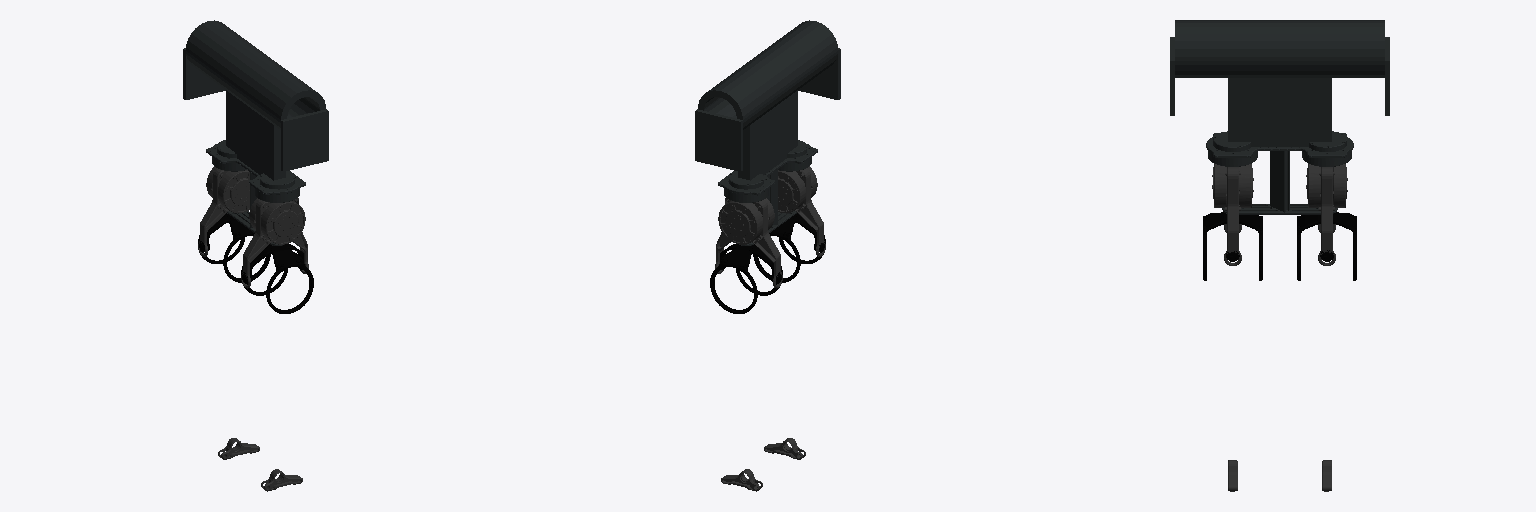
URDF robot description (TELLO):
<robot name="TELLO" xmlns:xacro="http://ros.org/wiki/xacro">
  <!-- ===== DUMMY 'BASE' LINK ==== -->
  <link name="BODY">
    <inertial>
      <mass value="9.807"/>
      <origin xyz="0.0 0.0 0.1345"/>
      <inertia ixx="0.188824827" ixy="0.000008407" ixz="-0.000015445" iyy="0.083219132" iyz="	0.000010634" izz="0.119998911"/>
    </inertial>
    <visual>
      <geometry>
        <mesh filename="meshes/BODY.dae" scale="1 1 1"/>
      </geometry>
      <origin rpy="0.0 0.0 0.0" xyz="0.0 0.0 0.0"/>
    </visual>
  </link>
  <!--!!!!!!!!!!!!!!!!!!!!!RIGHT LEG!!!!!!!!!!!!!!!!!!!!!!!!!!!!!!!!!!!!!!!!!!!!!!!!-->
  <joint name="r_hip_yaw" type="continuous">
    <axis xyz="0 0 1"/>
    <origin rpy="0 0 0" xyz="0.0 -0.090 -0.029"/>
    <parent link="BODY"/>
    <child link="R_HIP_C"/>
  </joint>
  <link name="R_HIP_C">
    <inertial>
      <mass value="1.20717"/>
      <origin xyz="-0.00043 0.0 -0.05917"/>
      <inertia ixx="0.001996651" ixy="0.000000328" ixz="0.000040451" iyy="0.002472257" iyz="0.0" izz="0.001645947"/>
    </inertial>
      <visual>
        <geometry>
          <mesh filename="meshes/HIP_C.dae" scale="1 1 1"/>
        </geometry>
        <origin rpy="0.0 0.0 0.0" xyz="0.0 0.0 0.0"/>
    </visual>
 </link>

  <joint name="r_hip_roll" type="continuous">
    <axis xyz="1 0 0"/>
    <origin rpy="0.0 0.0 0.0" xyz="0.0 0.0 -0.175"/>
    <parent link="R_HIP_C"/>
    <child link="R_HIP_GIMBAL"/>
  </joint>
  <link name="R_HIP_GIMBAL">
    <inertial>
      <mass value="0.26433"/>
      <origin xyz="-0.00152 0.0 0.01677"/>
      <inertia ixx="0.000735018" ixy="0.0" ixz="0.000001772" iyy="0.000715107" iyz="0.000000002" izz="0.000728669"/>
    </inertial>
      <visual>
        <geometry>
          <mesh filename="meshes/HIP_GIMBAL.dae" scale="1 1 1"/>
        </geometry>
        <origin rpy="0.0 0.0 0.0" xyz="0.0 0.0 0.0"/>
    </visual>
 </link>


  <joint name="r_hip_pitch" type="continuous">
    <axis xyz="0 1 0"/>
    <origin rpy="0.0 0 0.0" xyz="0.0 0.0 -0.022"/>
    <parent link="R_HIP_GIMBAL"/>
    <child link="R_THIGH"/>
  </joint>

  <link name="R_THIGH">
    <inertial>
      <mass value="2.111"/>
      <origin xyz="-0.00525 0.00011 -0.03179"/>
      <inertia ixx="0.012171016" ixy="-0.000013456" ixz="-0.000145044" iyy="0.011789322" iyz="0.000027517" izz="0.003575467"/>
    </inertial>
     <visual>
       <geometry>
         <mesh filename="meshes/THIGH.dae" scale="1 1 1"/>
       </geometry>
       <origin rpy="0.0 0.0 0.0" xyz="0.0 0.0 0.0"/>
    </visual>
  </link>

  <joint name="r_knee" type="continuous">
    <axis xyz="0 1 0"/>
    <!-- <origin rpy="0 0 0" xyz="0.0 0.0 -0.47"/> -->
    <origin rpy="0 0 0" xyz="0.0 0.0 -0.2276"/>
    <parent link="R_THIGH"/>
    <child link="R_SHANK" />
  </joint>

  <link name="R_SHANK">
    <inertial>
      <mass value="0.37773"/>
      <origin xyz="0.00396 -0.00016 -0.098.34"/>
      <inertia ixx="0.001797413" ixy="0.000002934" ixz="0.000019506" iyy="0.001815537" iyz="0.000003553" izz="0.000143890"/>
    </inertial>
      <visual>
        <geometry>
          <mesh filename="meshes/SHANK.dae" scale="1 1 1"/>
        </geometry>
        <origin rpy="0.0 0.0 0.0" xyz="0.0 0.0 0.0"/>
    </visual>
  </link>

  <joint name="r_ankle" type="continuous">
    <axis xyz="0 1 0"/>
    <!-- <origin rpy="0 0 0" xyz="0.0 0.0 -0.47"/> -->
    <origin rpy="0 0 0" xyz="0.0 0.0 -0.2276"/>
    <parent link="R_SHANK"/>
    <child link="R_FOOT" />
  </joint>

  <link name="R_FOOT">
    <inertial>
      <mass value="0.05552"/>
      <origin xyz="0.01067 0.0 -0.01226"/>
      <inertia ixx="0.000006734" ixy="0.0" ixz="0.000002630" iyy="0.000036387" iyz="0.0" izz="0.000032703"/>
    </inertial>
      <visual>
        <geometry>
          <mesh filename="meshes/FOOT.dae" scale="1 1 1"/>
        </geometry>
        <origin rpy="0.0 0.0 0.0" xyz="0.0 0.0 0.0"/>
    </visual>
  </link>


  <!--!!!!!!!!!!!!!!!!!!!!!LEFT LEG!!!!!!!!!!!!!!!!!!!!!!!!!!!!!!!!!!!!!!!!!!!!!!!!-->
  <joint name="l_hip_yaw" type="continuous">
    <axis xyz="0 0 1"/>
    <origin rpy="0 0 0" xyz="0.0 0.090 -0.029"/>
    <parent link="BODY"/>
    <child link="L_HIP_C"/>
  </joint>
  <link name="L_HIP_C">
    <inertial>
      <mass value="1.19633"/>
      <origin xyz="-0.00044 0.0 -0.05368"/>
      <inertia ixx="0.001961019" ixy="0.000000328" ixz="0.000040006" iyy="0.002434744" iyz="0.0" izz="0.001642970"/>
    </inertial>
      <visual>
        <geometry>
          <mesh filename="meshes/HIP_C.dae" scale="1 1 1"/>
        </geometry>
        <origin rpy="0.0 0.0 0.0" xyz="0.0 0.0 0.0"/>
    </visual>
 </link>

  <joint name="l_hip_roll" type="continuous">
    <axis xyz="1 0 0"/>
    <origin rpy="0.0 0.0 0.0" xyz="0.0 0.0 -0.175"/>
    <parent link="L_HIP_C"/>
    <child link="L_HIP_GIMBAL"/>
  </joint>
  <link name="L_HIP_GIMBAL">
    <inertial>
      <mass value="0.26433"/>
      <origin xyz="-0.00152 0.0 0.01677"/>
      <inertia ixx="0.000735018" ixy="0.0" ixz="0.000001772" iyy="0.000715107" iyz="0.000000002" izz="0.000728669"/>
    </inertial>
      <visual>
        <geometry>
          <mesh filename="meshes/HIP_GIMBAL.dae" scale="1 1 1"/>
        </geometry>
        <origin rpy="0.0 0.0 0.0" xyz="0.0 0.0 0.0"/>
    </visual>
 </link>

  <joint name="l_hip_pitch" type="continuous">
    <axis xyz="0 1 0"/>
    <origin rpy="0.0 0 0.0" xyz="0.0 0.0 -0.022"/>
    <parent link="L_HIP_GIMBAL"/>
    <child link="L_THIGH"/>
  </joint>

  <link name="L_THIGH">
    <inertial>
      <mass value="2.111"/>
      <origin xyz="-0.00525 0.00011 -0.03179"/>
      <inertia ixx="0.012171016" ixy="-0.000013456" ixz="-0.000145044" iyy="0.011789322" iyz="0.000027517" izz="0.003575467"/>
    </inertial>
     <visual>
       <geometry>
         <mesh filename="meshes/THIGH.dae" scale="1 1 1"/>
       </geometry>
       <origin rpy="0.0 0.0 0.0" xyz="0.0 0.0 0.0"/>
    </visual>
  </link>

  <joint name="l_knee" type="continuous">
    <axis xyz="0 1 0"/>
    <!-- <origin rpy="0 0 0" xyz="0.0 0.0 -0.47"/> -->
    <origin rpy="0 0 0" xyz="0.0 0.0 -0.2276"/>
    <parent link="L_THIGH"/>
    <child link="L_SHANK" />
  </joint>

  <link name="L_SHANK">
    <inertial>
      <mass value="0.37773"/>
      <origin xyz="0.00396 -0.00016 -0.098.34"/>
      <inertia ixx="0.001797413" ixy="0.000002934" ixz="0.000019506" iyy="0.001815537" iyz="0.000003553" izz="0.000143890"/>
    </inertial>
      <visual>
        <geometry>
          <mesh filename="meshes/SHANK.dae" scale="1 1 1"/>
        </geometry>
        <origin rpy="0.0 0.0 0.0" xyz="0.0 0.0 0.0"/>
    </visual>
  </link>

  <joint name="l_ankle" type="continuous">
    <axis xyz="0 1 0"/>
    <!-- <origin rpy="0 0 0" xyz="0.0 0.0 -0.47"/> -->
    <origin rpy="0 0 0" xyz="0.0 0.0 -0.2276"/>
    <parent link="L_SHANK"/>
    <child link="L_FOOT" />
  </joint>

  <link name="L_FOOT">
    <inertial>
      <mass value="0.05552"/>
      <origin xyz="0.01067 0.0 -0.01226"/>
      <inertia ixx="0.000006734" ixy="0.0" ixz="0.000002630" iyy="0.000036387" iyz="0.0" izz="0.000032703"/>
    </inertial>
      <visual>
        <geometry>
          <mesh filename="meshes/FOOT.dae" scale="1 1 1"/>
        </geometry>
        <origin rpy="0.0 0.0 0.0" xyz="0.0 0.0 0.0"/>
    </visual>
  </link>
</robot>

--- Render facts (derived) ---
The picture shows the robot from 3 angles, left to right: view 1: azimuth 30°, elevation 25°; view 2: azimuth 150°, elevation 25°; view 3: azimuth 270°, elevation 25°; orthographic projection.
Robot: TELLO — 11 links, 10 joints (10 continuous); root link BODY; default pose: all joints at 0.
Visible links, largest first — view 1: BODY, R_HIP_C, L_HIP_C, R_HIP_GIMBAL, L_HIP_GIMBAL; view 2: BODY, L_HIP_C, R_HIP_C, L_HIP_GIMBAL, R_HIP_GIMBAL; view 3: BODY, R_HIP_C, L_HIP_C, L_HIP_GIMBAL, R_HIP_GIMBAL.
Link boxes in pixels (left/top/right/bottom): BODY: left=183, top=20, right=328, bottom=245; R_HIP_C: left=241, top=198, right=308, bottom=288; L_HIP_C: left=198, top=166, right=249, bottom=256; R_HIP_GIMBAL: left=241, top=244, right=313, bottom=313; L_HIP_GIMBAL: left=198, top=213, right=270, bottom=282; BODY: left=695, top=20, right=840, bottom=245; L_HIP_C: left=715, top=198, right=782, bottom=288; R_HIP_C: left=778, top=166, right=825, bottom=256; L_HIP_GIMBAL: left=710, top=244, right=782, bottom=313; R_HIP_GIMBAL: left=753, top=213, right=825, bottom=282; BODY: left=1170, top=20, right=1389, bottom=214; R_HIP_C: left=1212, top=164, right=1253, bottom=265; L_HIP_C: left=1306, top=164, right=1347, bottom=265; L_HIP_GIMBAL: left=1297, top=212, right=1356, bottom=280; R_HIP_GIMBAL: left=1203, top=212, right=1262, bottom=280.
Bounding box of the posed robot: 0.1505 × 0.42 × 0.9629 m (x, y, z).
Meshes: 6 distinct files referenced, 7 mesh visuals loaded (4 Collada DAE); not drawn: 4 (reference not matched to a file when rendering).